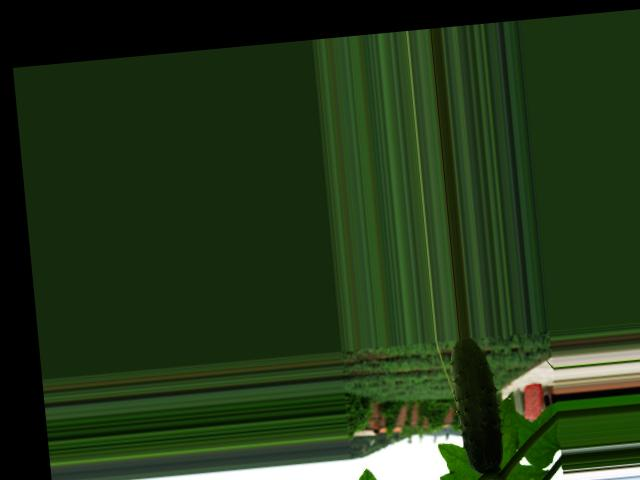cucumber: (448, 335, 505, 475)
